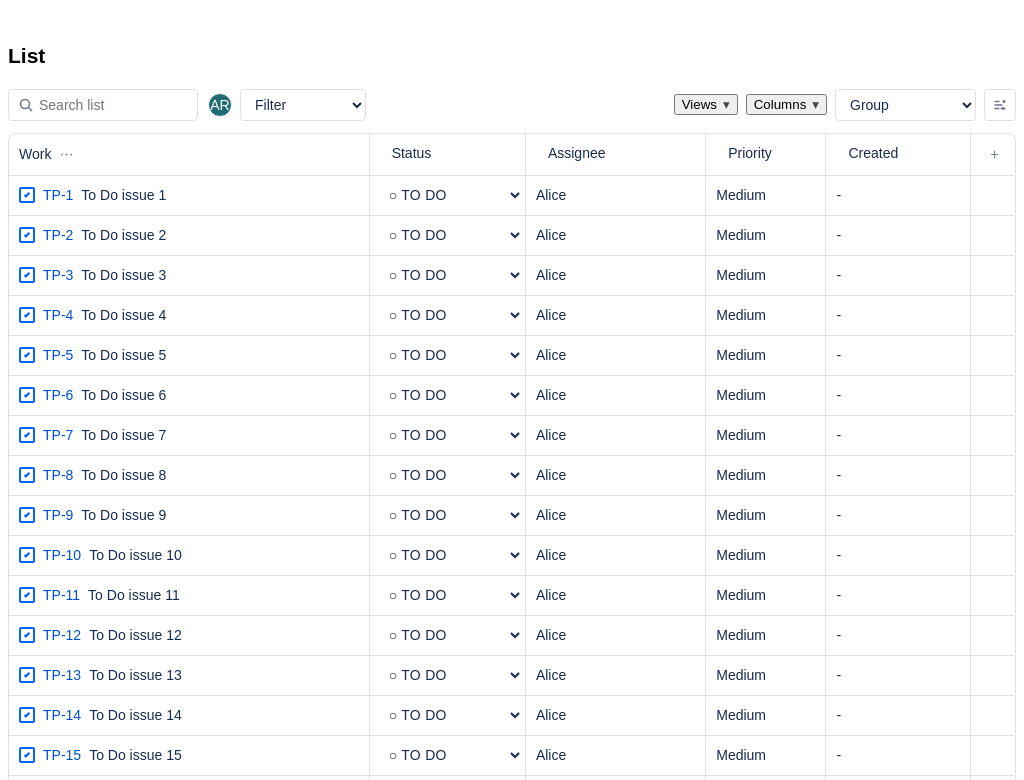
JL-259 — List Group by covers the full filtered set › keeps a group contiguous across the page boundary with full counts
Select "Group by status" in the 2nd dropdown showing "Group" at [906, 105], box x1=835 y1=89 x2=976 y2=121
(page scrolled)
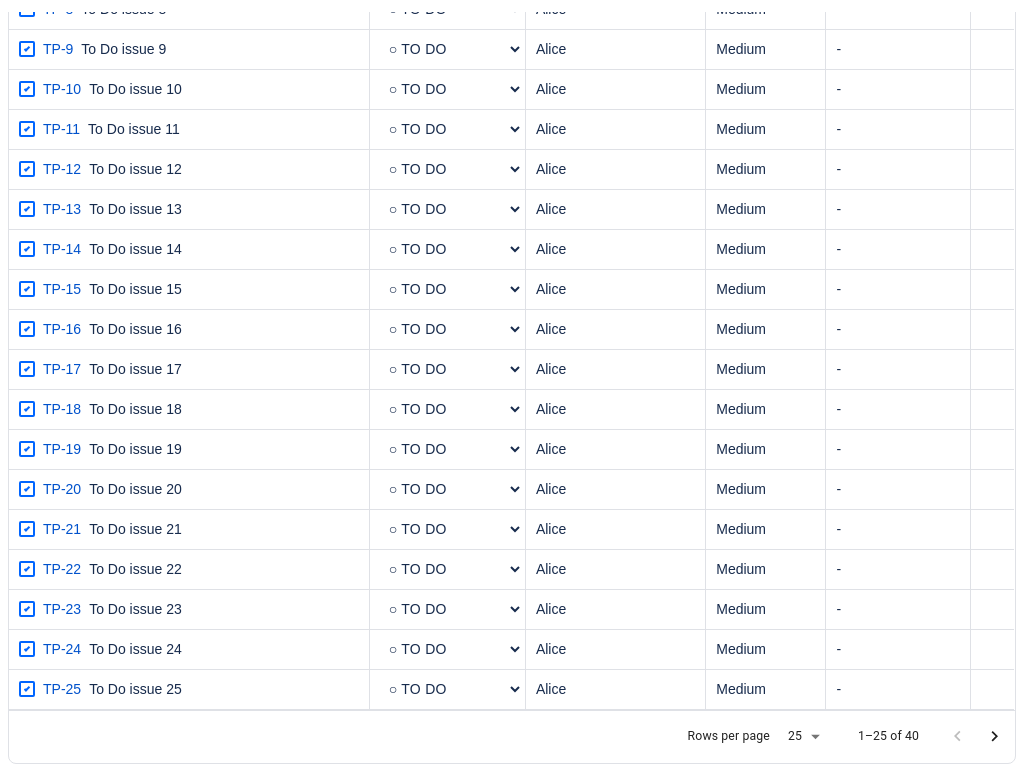
Click the button named "Go to next page".
click(994, 737)  # box x1=976 y1=718 x2=1013 y2=755
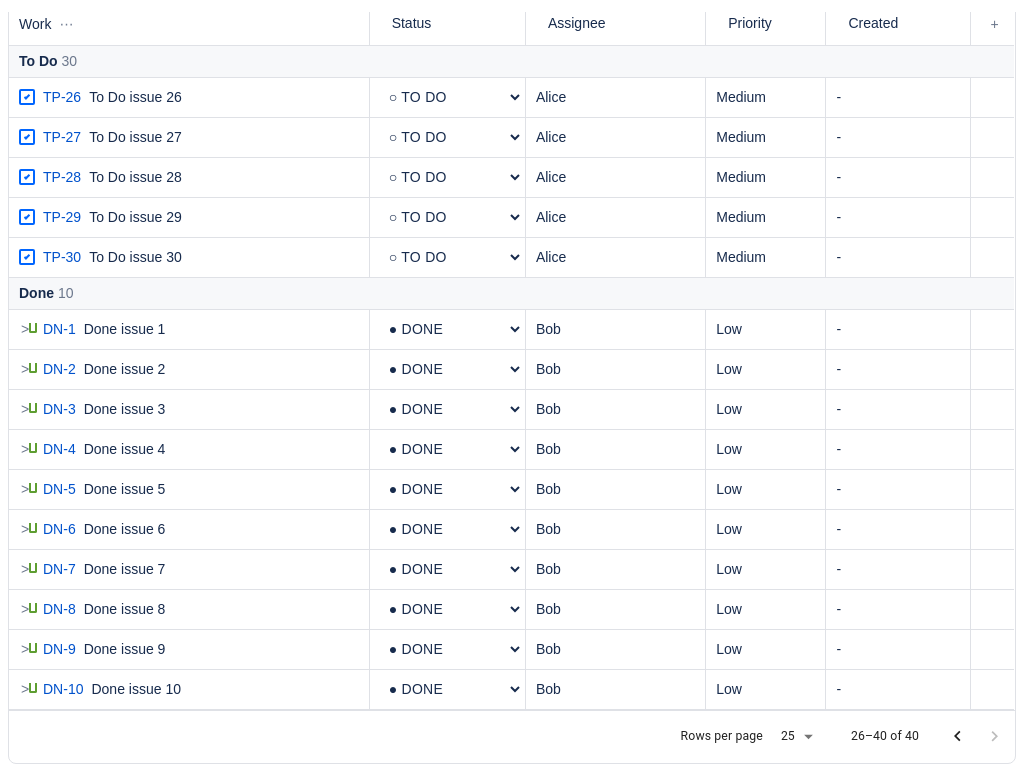
Expected: the button "TP-26" is shown, x1=43 y1=89 x2=81 y2=105
Expected: the button "DN-1" is shown, x1=43 y1=321 x2=76 y2=337
